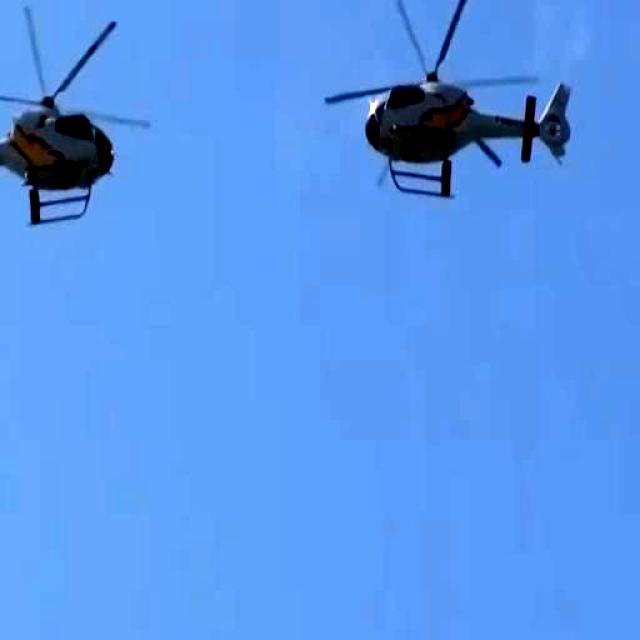drone: (340, 0, 585, 211), (0, 4, 140, 265)
